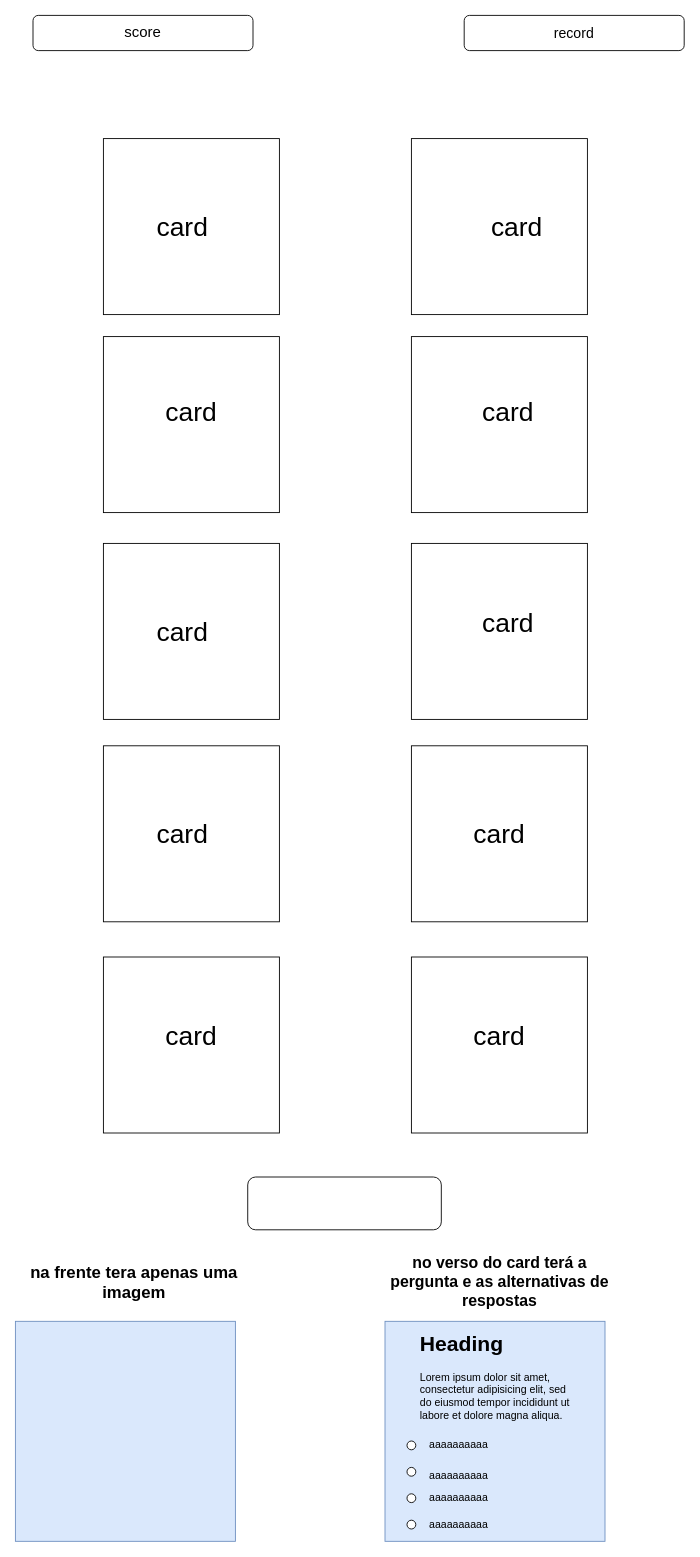
The diagram is 700 pixels wide and 1557 high, and some of its shapes have lost their labels. Each missing label, with the centre of its shape:
"IMAGEM" goes at [125,1430].
"Verificar respostas" goes at [344,1203].
